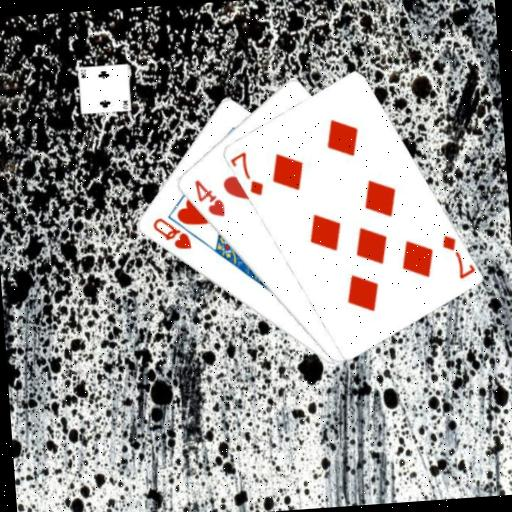4H: (190, 174, 227, 220)
7D: (228, 148, 265, 200), (438, 231, 475, 282)
QH: (148, 213, 193, 254)
